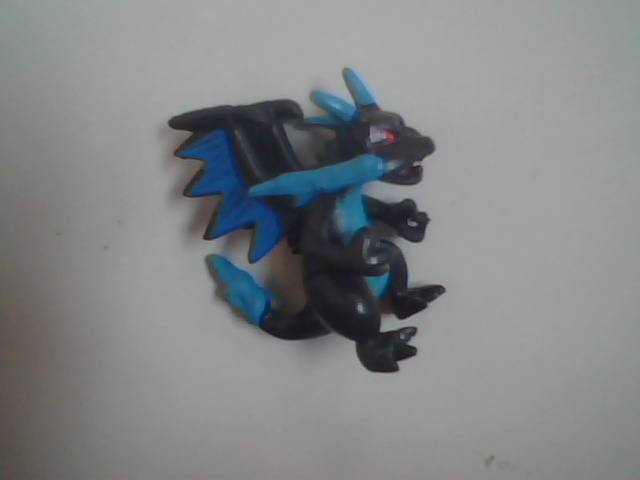charizard: (145, 48, 518, 416)
